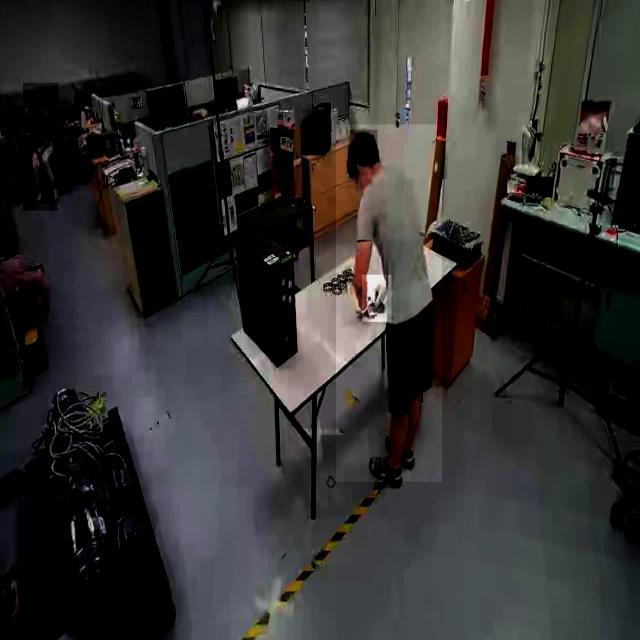hand_glove: (362, 274, 392, 322)
head_nohelmet: (348, 130, 378, 162), (23, 94, 34, 102)
person: (336, 125, 442, 482), (22, 82, 58, 212)
